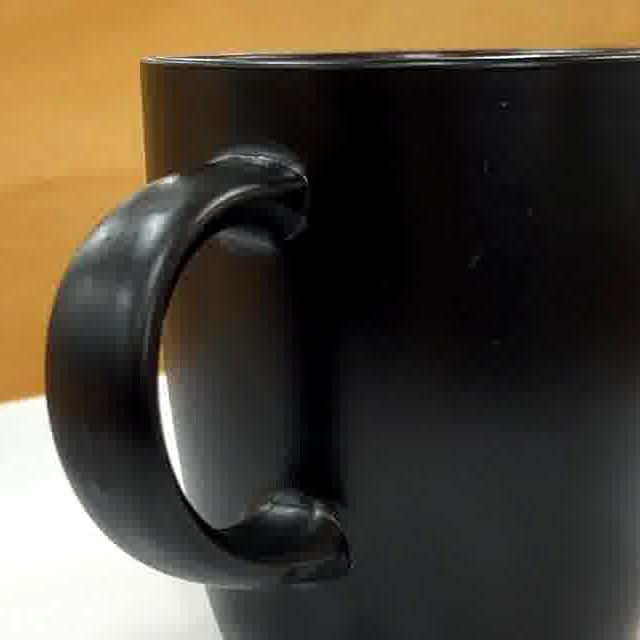cup: (46, 53, 640, 640)
